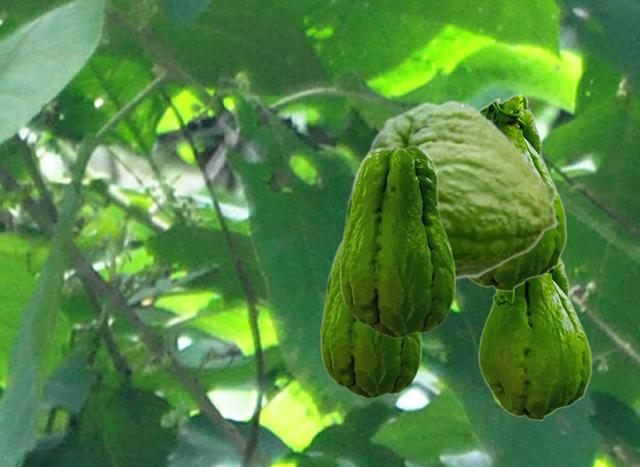sayote: (352, 99, 560, 283), (339, 144, 455, 338), (468, 93, 566, 291), (478, 257, 591, 420), (320, 239, 421, 398)
